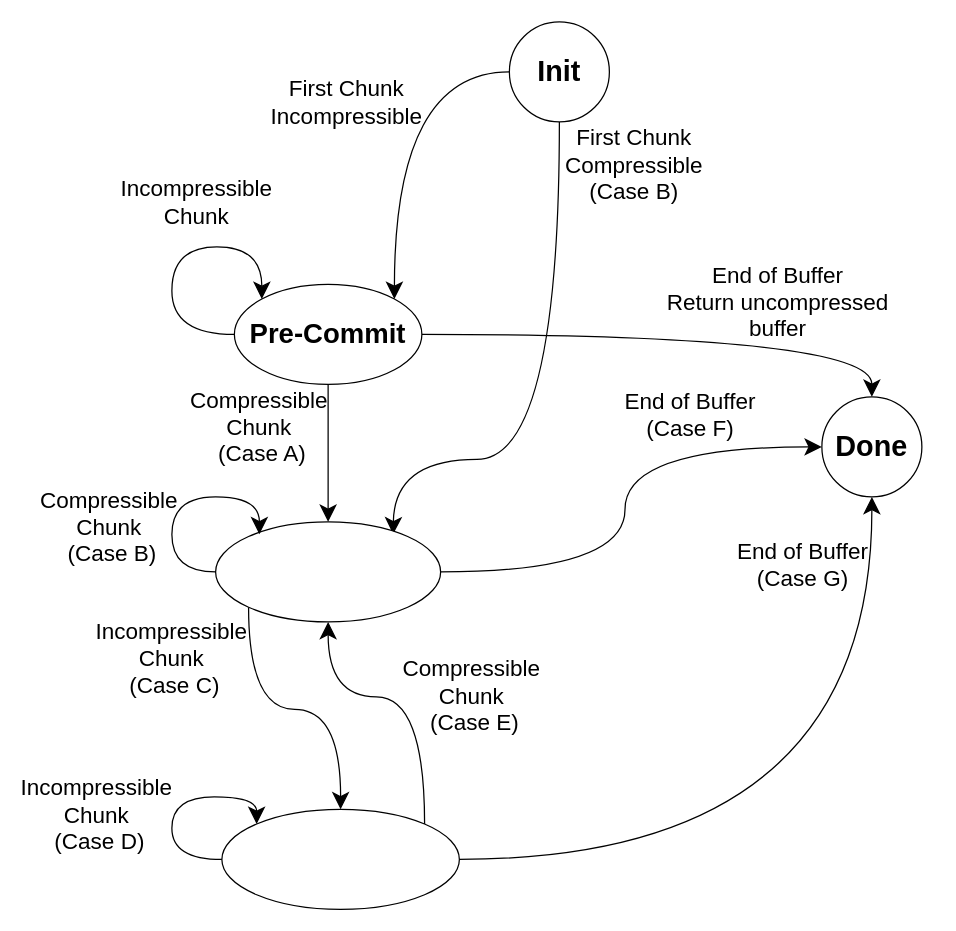
Image size: 956x931. Some labels were removed from this diagram. Here are the shapes that lost their labels. From the top down, the centre of each, then its label:
At point 327,571: "Compressed".
At point 340,858: "Uncompressed".
